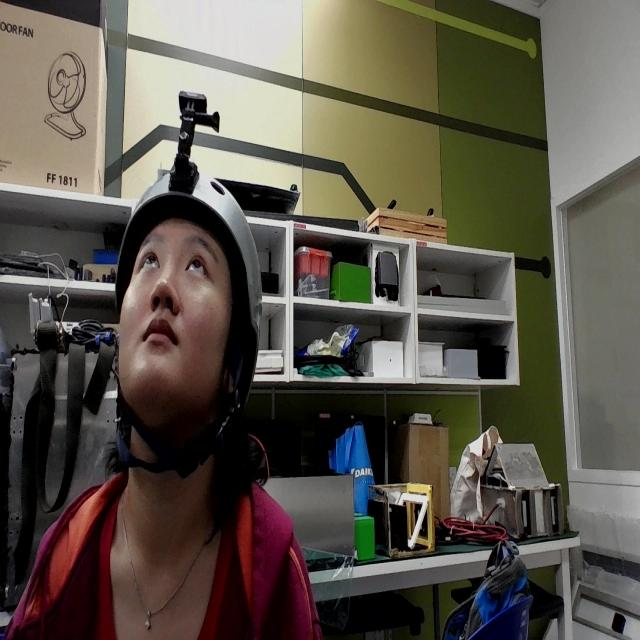With Helmet: (100, 74, 273, 511)
